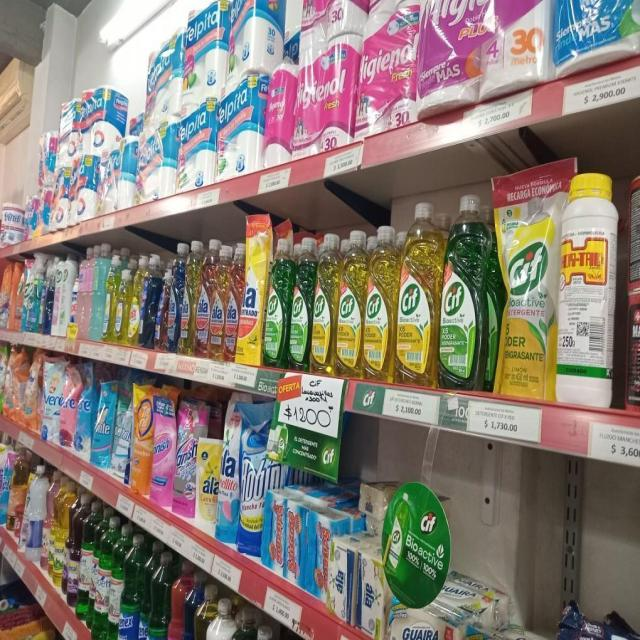ala_conc_amarillo: (180, 240, 196, 356), (210, 242, 225, 361), (197, 238, 210, 359)
ala_conc_rojo: (225, 243, 239, 363)
cif_conc_bot_amarilla: (397, 201, 438, 385), (364, 223, 396, 380), (336, 228, 364, 376), (312, 232, 336, 374)
cif_conc_botella_verde: (439, 193, 488, 390), (264, 231, 288, 368), (289, 233, 311, 370)
cif_conc_sachet_amarillo: (498, 163, 555, 400)
magistral_con_amarillo: (115, 252, 128, 344)
